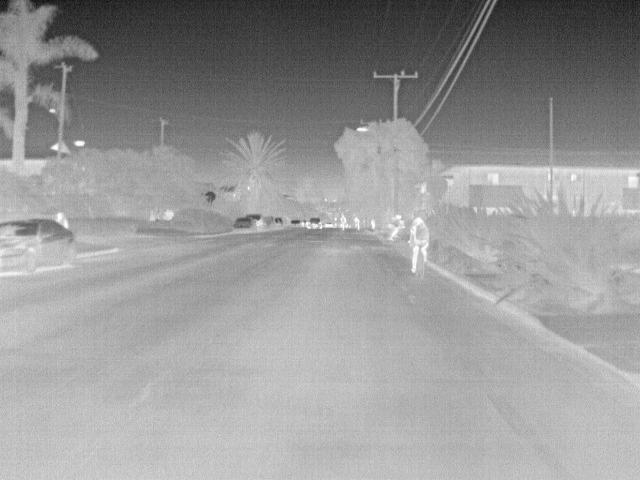car: (0, 218, 76, 276), (232, 216, 261, 232), (244, 214, 266, 232), (288, 218, 304, 230), (307, 218, 320, 230), (321, 220, 333, 230)
person: (409, 214, 432, 274), (385, 212, 404, 240), (51, 212, 70, 230), (351, 214, 361, 232), (338, 212, 346, 231), (368, 218, 376, 232)
